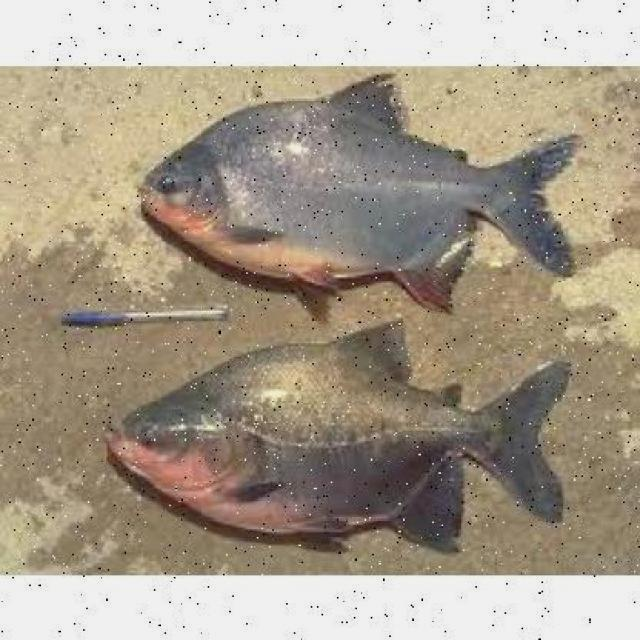ikan-pacu: (104, 329, 582, 542), (136, 92, 566, 302)
